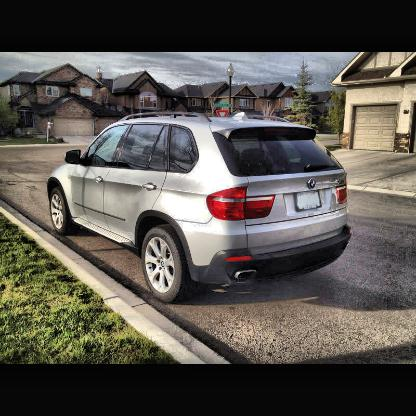BMW X5 SUV 2007: (48, 111, 355, 305)
